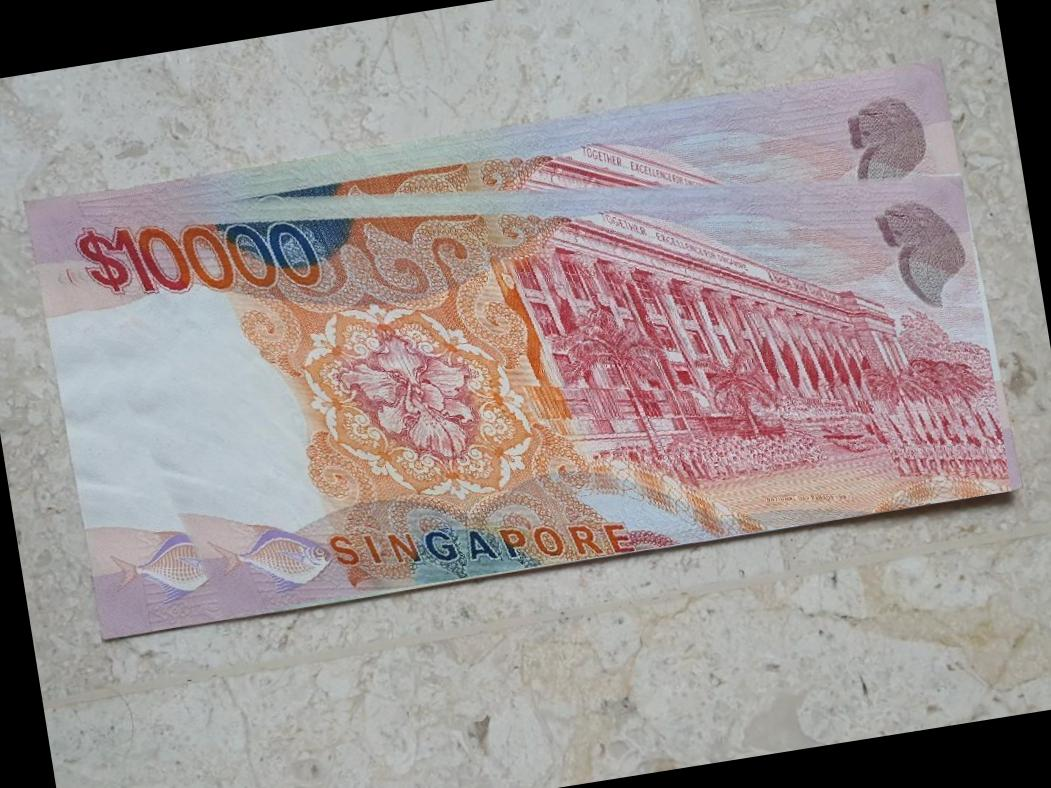10000SingaporeDollar: (37, 63, 1012, 636)
